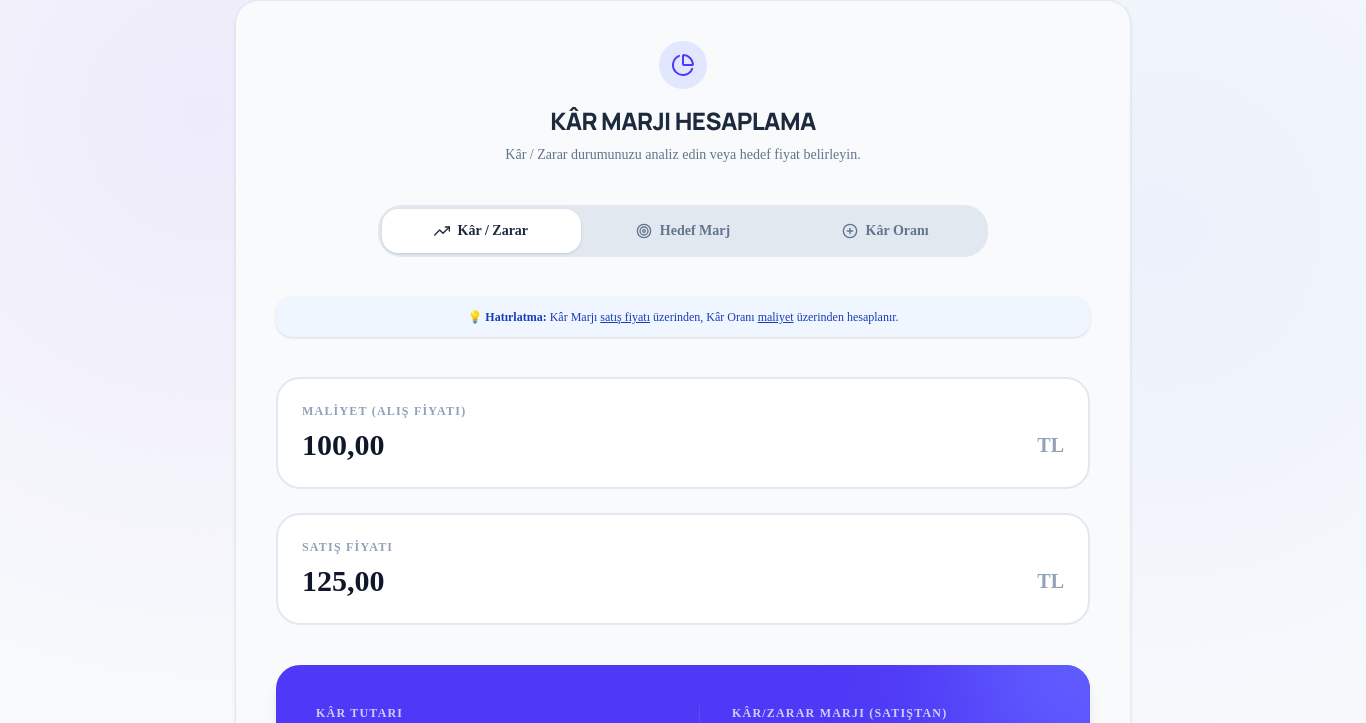
Test: KarMarjiForm Integration Test › should format numbers and send calculate action
The width and height of the screenshot is (1366, 723).
Replace the text in the field below "Maliyet (Alış Fiyatı)" with "1000" at (683, 445), box [302, 427, 1064, 463]
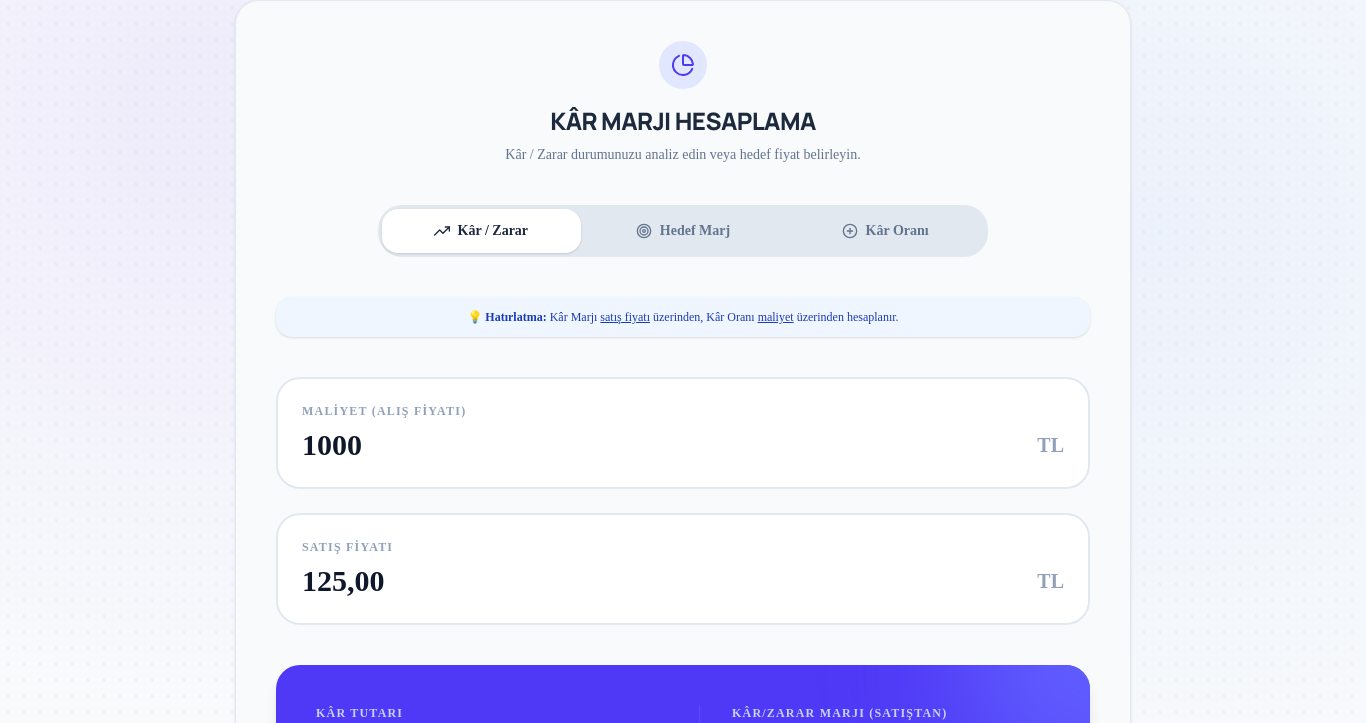
Leave the field below "Maliyet (Alış Fiyatı)", box [302, 427, 1064, 463]
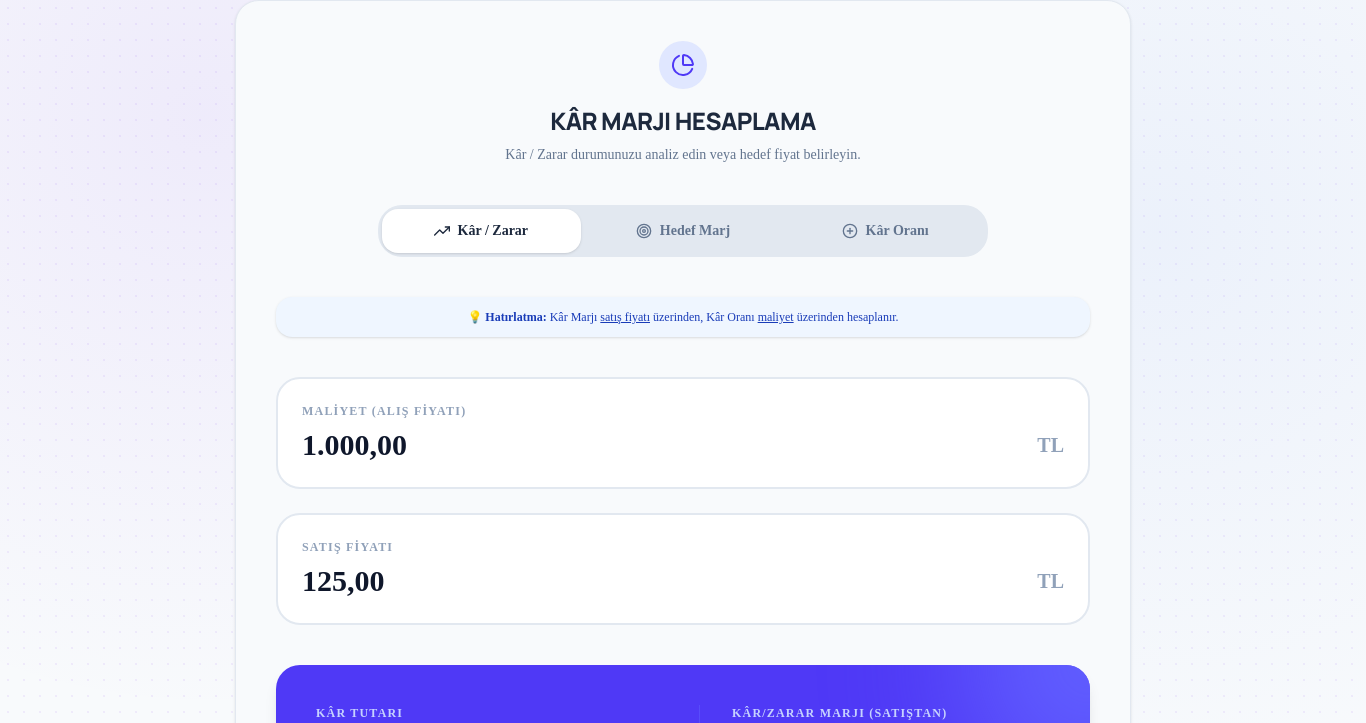
Check: the field below "Maliyet (Alış Fiyatı)" holds "1.000,00", box [302, 427, 1064, 463]
